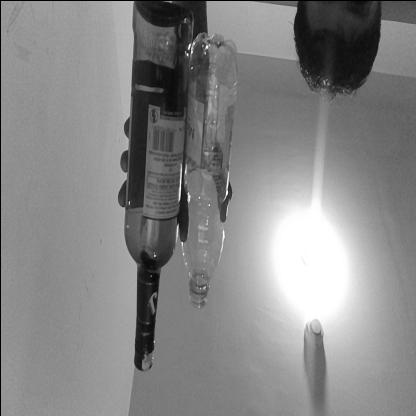objects: (123, 0, 194, 372)
plastic_bottles: (179, 32, 239, 314)
